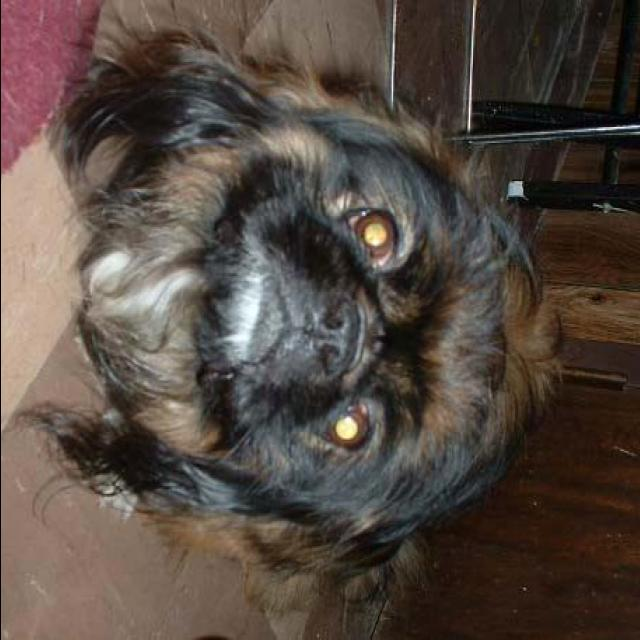pekinese: (6, 21, 578, 629)
